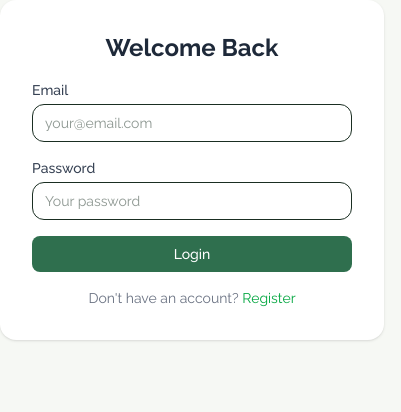
Test: LoginForm › shows network error when fetch fails
Type "test@farm.com" into the field with placeholder "your@email.com" at (192, 123), box [32, 104, 352, 142]
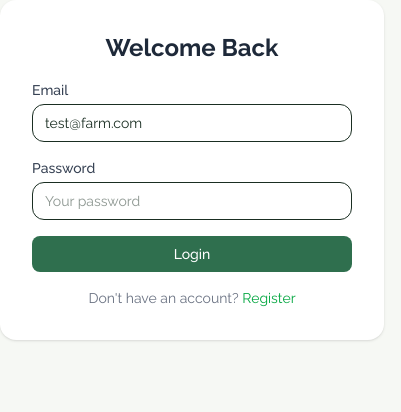
Type "pass123" into the password field with placeholder "Your password" at (192, 201), box [32, 182, 352, 220]
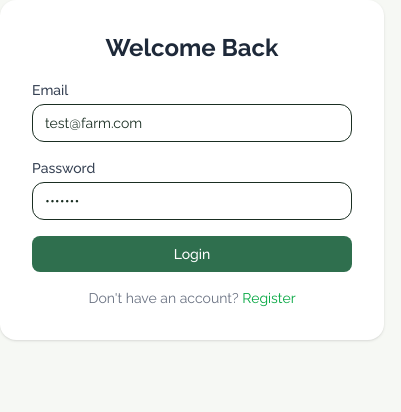
Click the button "Login" at (192, 254), box [32, 236, 352, 272]
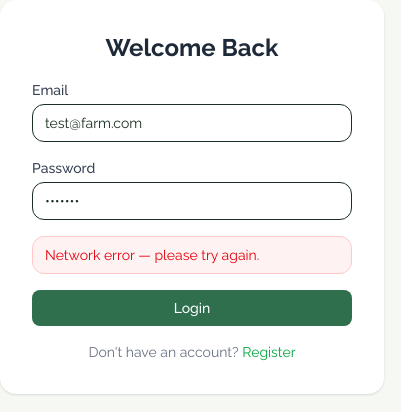
Expected: the text "Network error — please try again." is shown, [32, 236, 352, 274]
